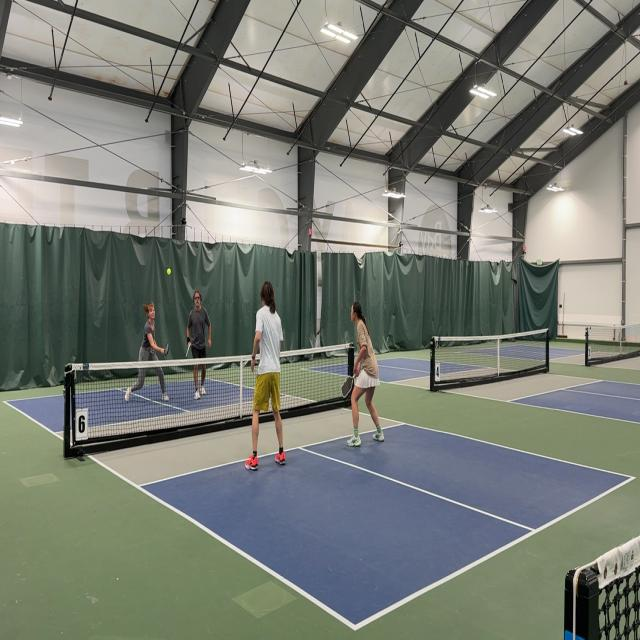ball: (167, 268, 171, 276)
